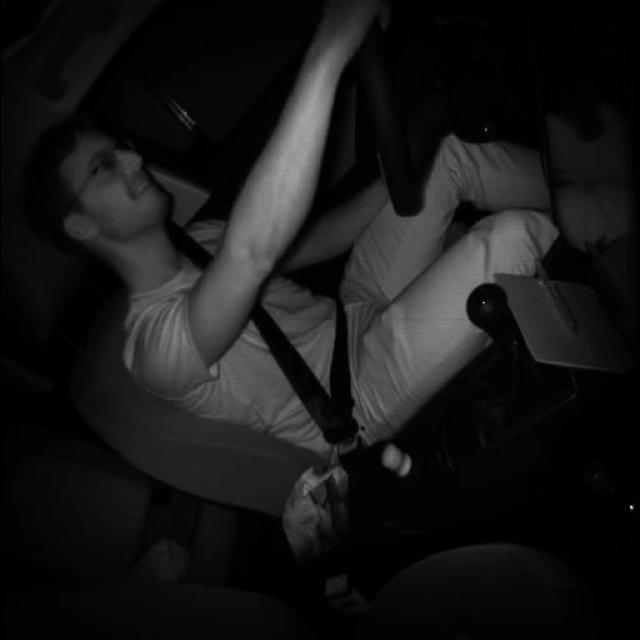pen: (533, 256, 584, 340)
